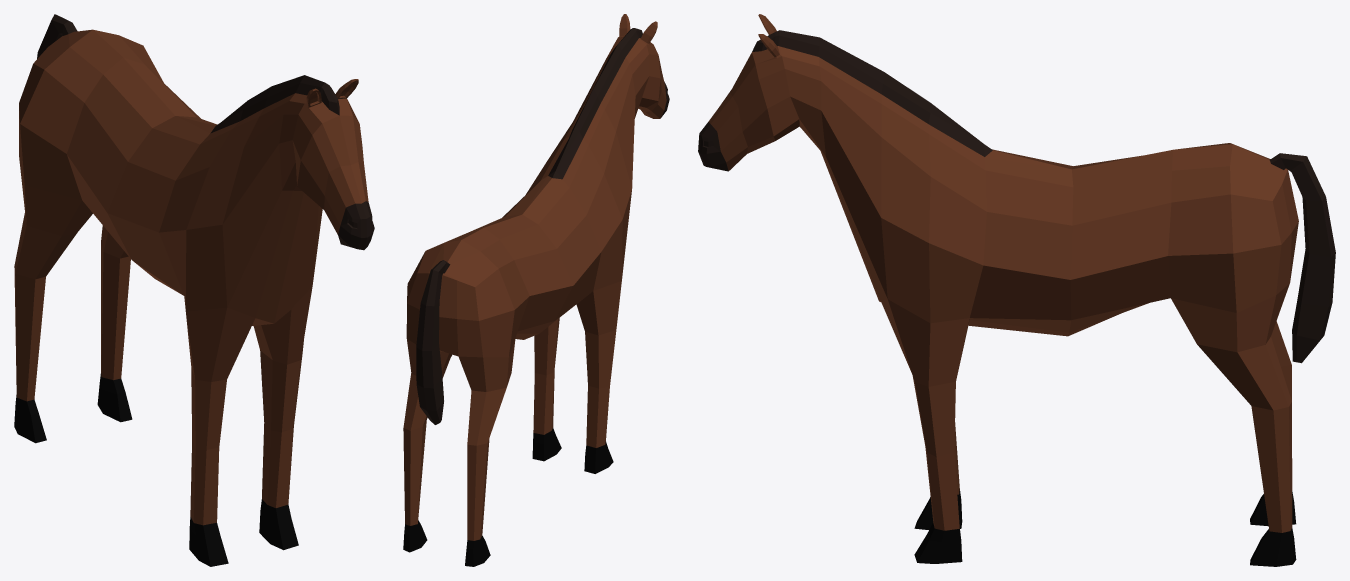
Rendered from Horse_1.glb.
3 views of the same model, side by side, from view 1: azimuth 30°, elevation 25°; view 2: azimuth 150°, elevation 25°; view 3: azimuth 270°, elevation 25° (orthographic). The views are drawn at different scales.
Visible parts, largest first — view 1: 17horseFinal; view 2: 17horseFinal; view 3: 17horseFinal.
Part boxes in pixels (x1,y1,x2,y2): 17horseFinal: [14, 14, 374, 566]; 17horseFinal: [403, 14, 669, 566]; 17horseFinal: [698, 14, 1335, 566].
Bounding box in the file's own units: 0.5351 × 1.87 × 2.09.
Materials: 1 (1 with a texture image).
